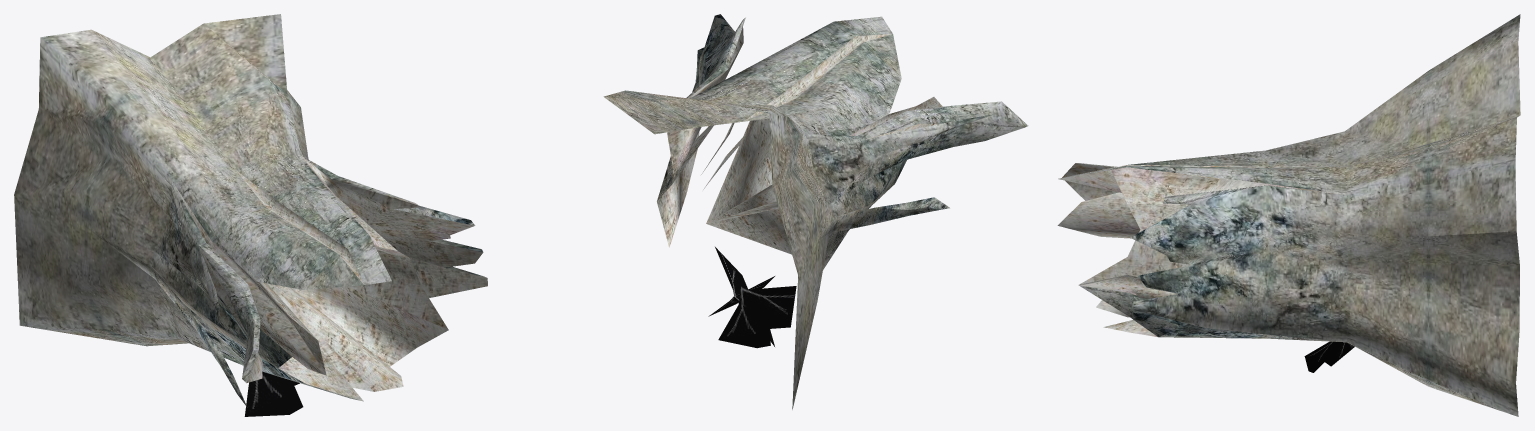
Rendered from tree_destroyed_snow_stump_a.glb.
3 views of the same model, side by side, from view 1: azimuth 30°, elevation 25°; view 2: azimuth 150°, elevation 25°; view 3: azimuth 270°, elevation 25° (orthographic). The views are drawn at different scales.
Bounding box in the file's own units: 55.78 × 61.54 × 78.65.
1 material, 1 textured.
